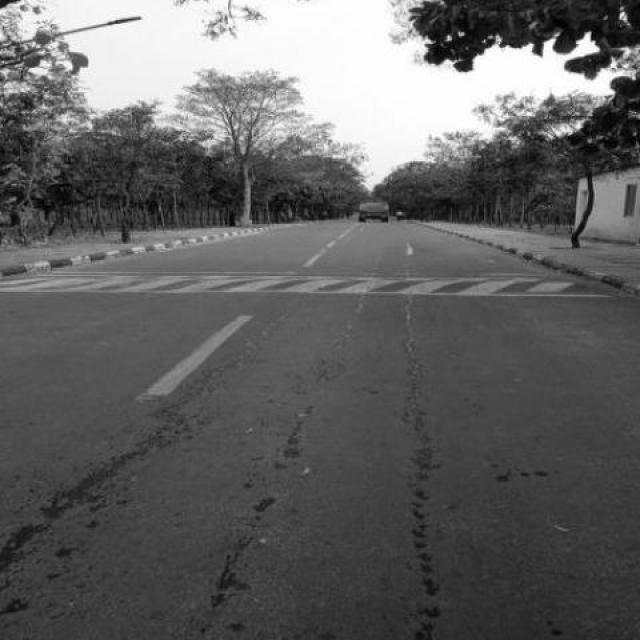Speed Bump: (1, 270, 614, 298)
